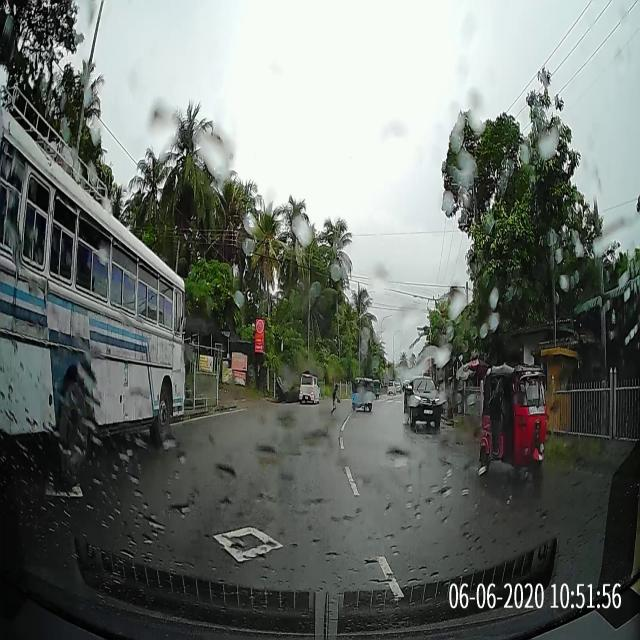Romb: (210, 524, 287, 565)
